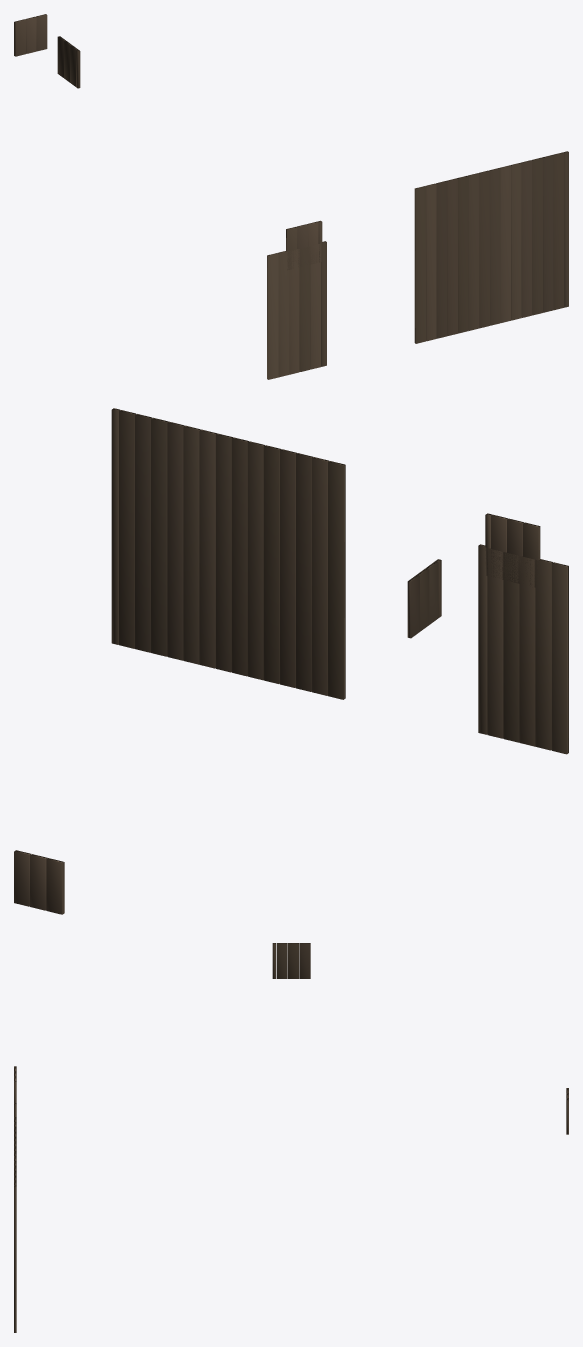
Rendered from SM_BarnWood_07.glb.
3 renders of one model, top to bottom at view 1: azimuth 30°, elevation 25°; view 2: azimuth 150°, elevation 25°; view 3: azimuth 270°, elevation 25°, orthographic. The views are drawn at different scales.
Visible parts, largest first — view 1: SM_BarnWood_07; view 2: SM_BarnWood_07; view 3: SM_BarnWood_07.
Boxes of the visible parts, x1,y1,x2,y2 form: SM_BarnWood_07: (14,14,568,379); SM_BarnWood_07: (14,408,568,914); SM_BarnWood_07: (14,943,568,1332).
Size of the model in its own units: 5.99 by 3.9 by 8.64.
